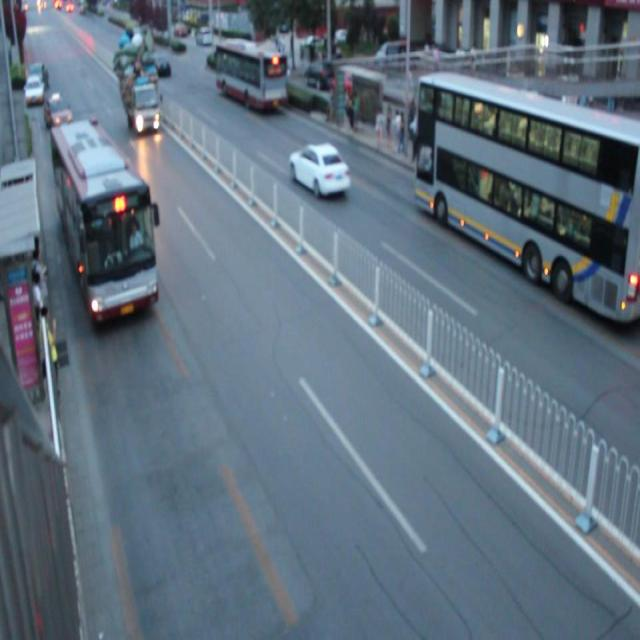bus: (118, 21, 161, 133)
car: (290, 141, 350, 198), (44, 92, 73, 132)
van: (416, 74, 640, 318), (50, 120, 157, 324), (215, 37, 288, 114)
